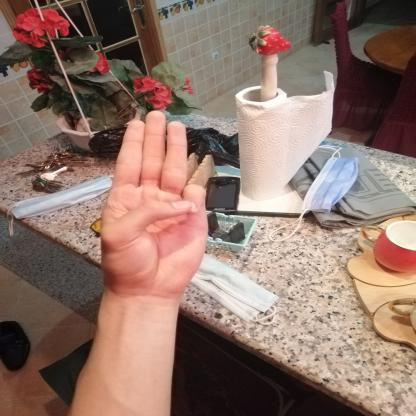THA: (86, 98, 228, 308)
